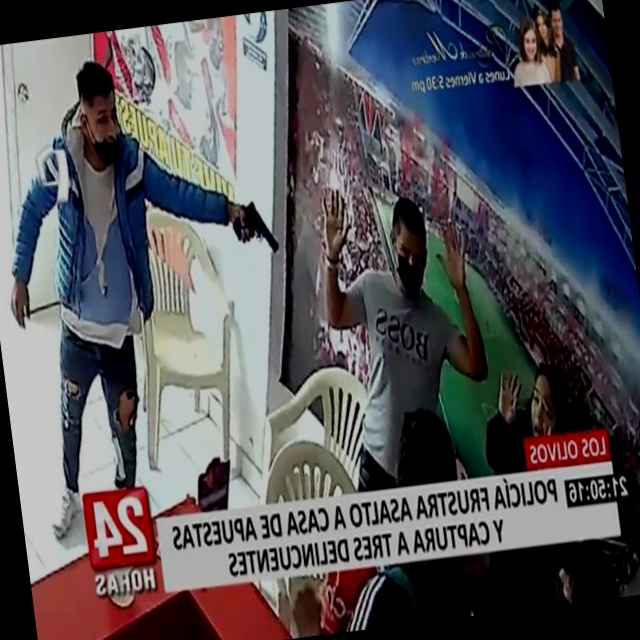gun: (223, 177, 284, 274)
